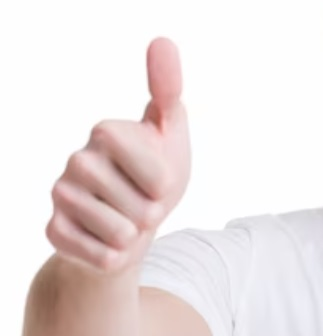best: (45, 36, 190, 277)
